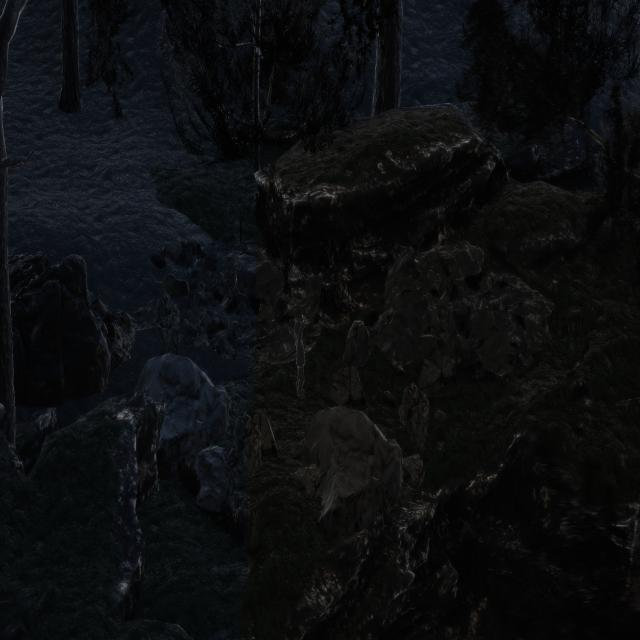Human: (282, 296, 314, 418)
